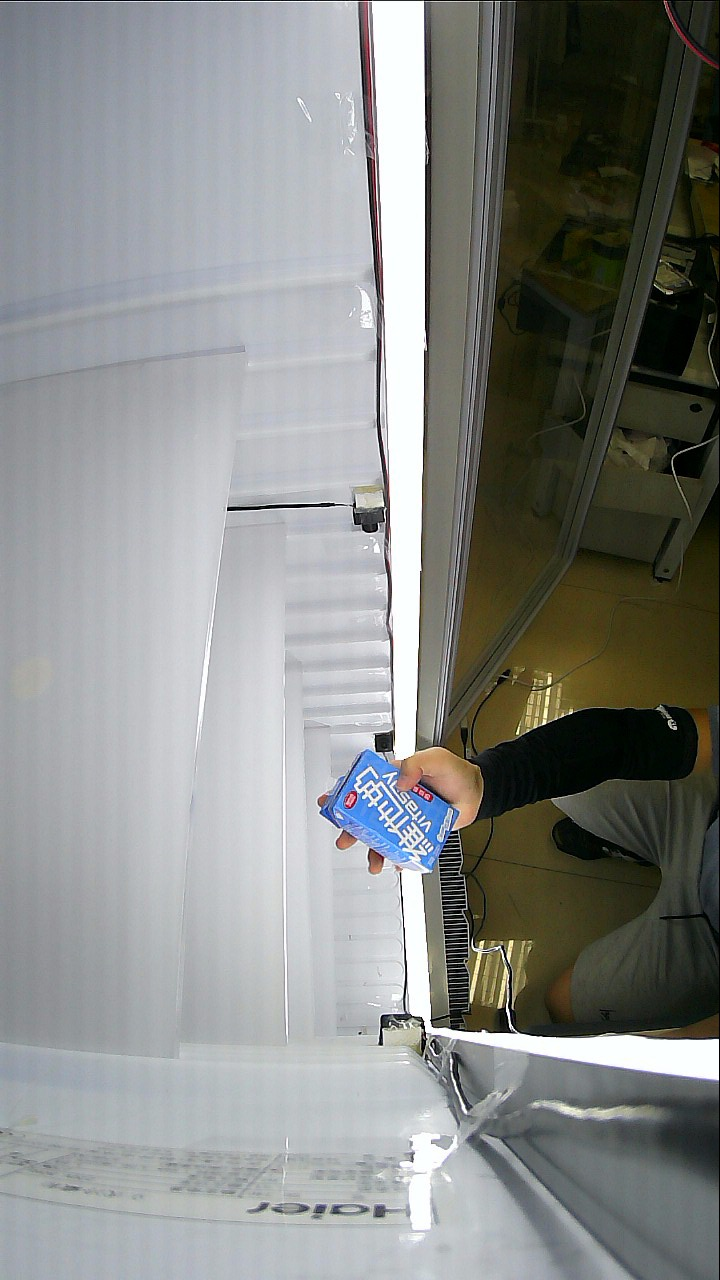VitaSoyOriginal: (322, 747, 506, 876)
